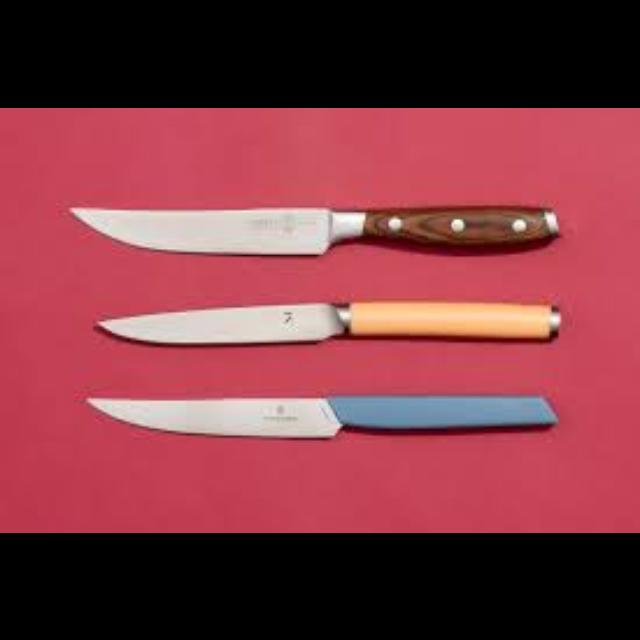Knife: (68, 202, 558, 254), (84, 391, 558, 437), (94, 298, 560, 344)
